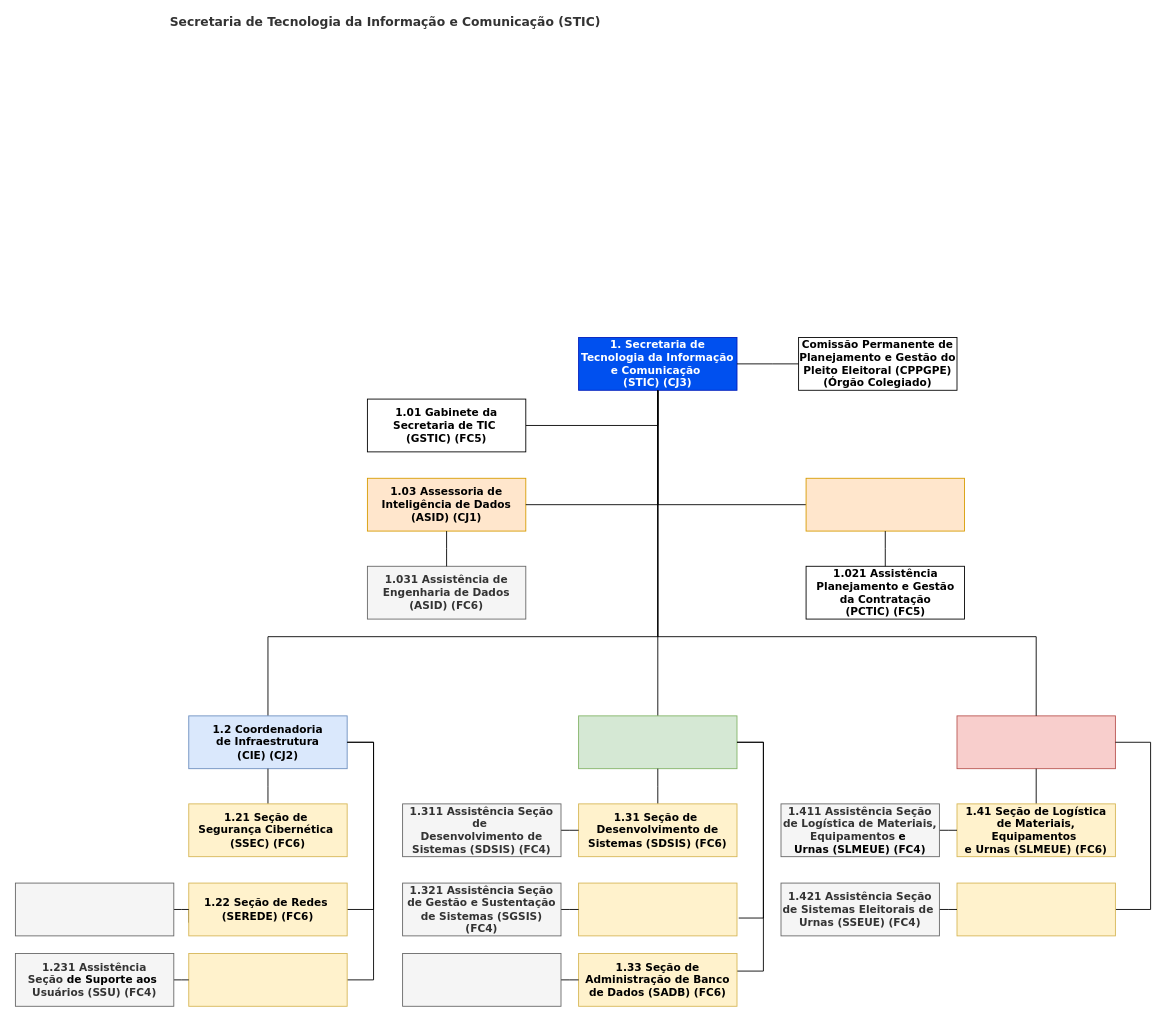
Some shapes in this 1167 by 1022 pixel diagram are drawn without their labels. Each missing label, with the box of its shape:
1.02 Núcleo de Planejamento e Governança de TIC (NPGTIC) (FC6): (805, 477, 964, 531)
1.221 Assistência Seção de Redes (SEREDE) (FC4): (15, 882, 174, 936)
1.23 Seção de Suporte aos Usuários (SSU) (FC6): (188, 953, 347, 1006)
1.3 Coordenadoria de Soluções Corporativas (CSCOR) (CJ2): (578, 715, 737, 769)
1.32 Seção de Gestão e Sustentação de Sistemas (SGSIS) (FC6): (578, 882, 737, 936)
1.331 Assistência Seção de Administração de Banco de Dados (SADB) (FC4): (402, 953, 561, 1006)
1.4 Coordenadoria de Operação Logística e Gestão da Eleição (CGLE) (CJ2): (956, 715, 1115, 769)
1.42 Seção de Sistemas Eleitorais de Urnas (SSEUE) (FC6): (956, 882, 1115, 936)
